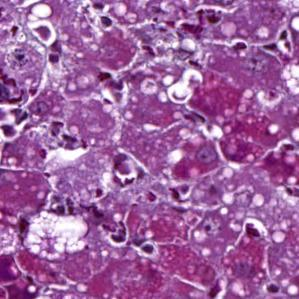ballooning: (20, 208, 95, 262)
